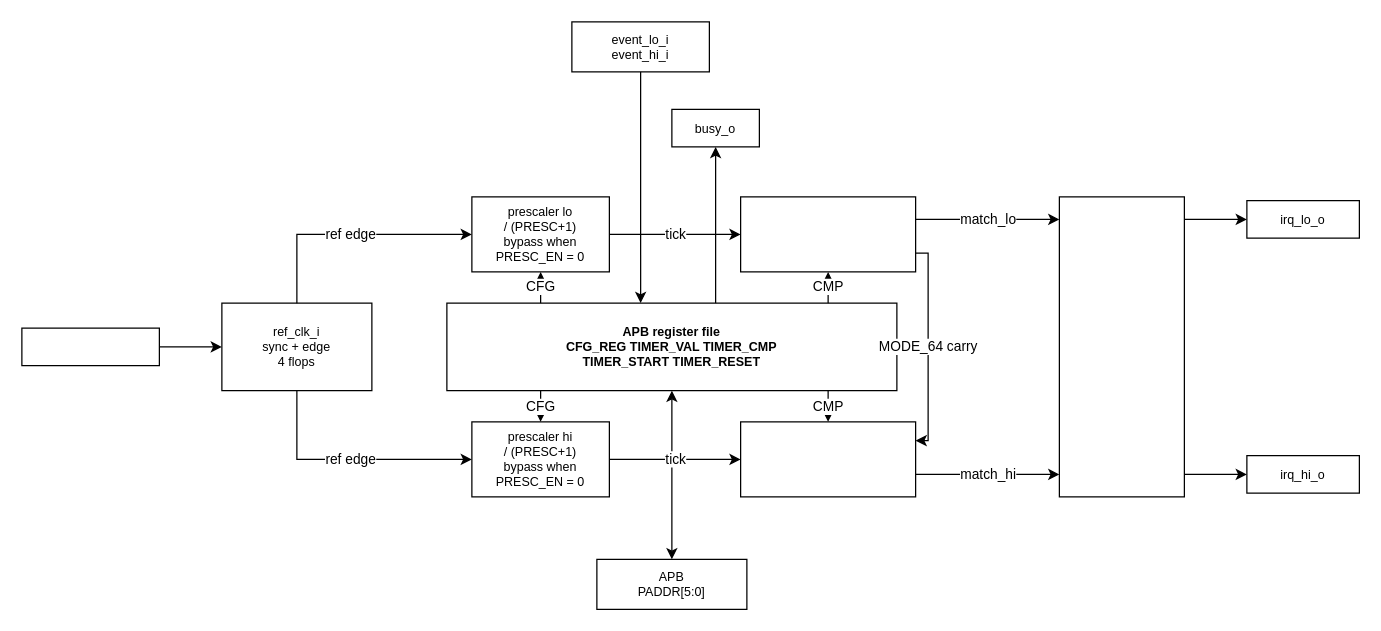
This 1381x631 diagram has some shape labels left out. Here are the shapes that lost their labels. From the top down, the centre of each, then its label:
At point 827,234: "counter_lo 32-bit == TIMER_CMP_LO".
At point 90,346: "ref_clk_i".
At point 1121,346: "IRQ logic IRQ_EN MODE_64".
At point 827,459: "counter_hi 32-bit == TIMER_CMP_HI".
